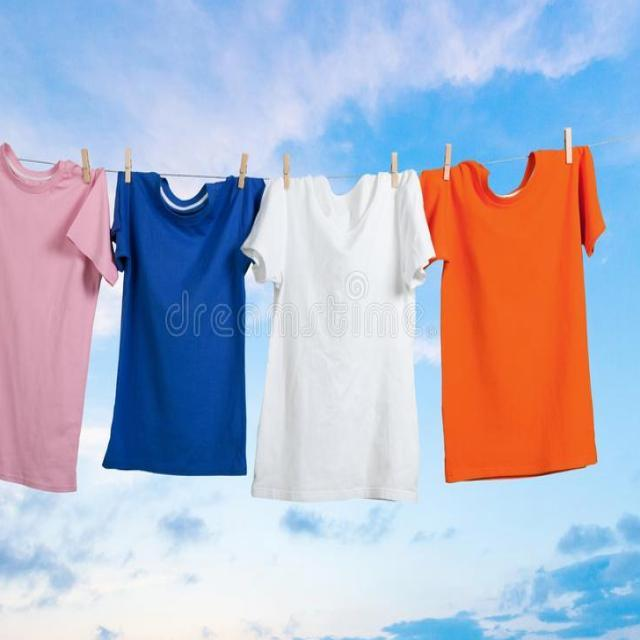clothes: (427, 132, 596, 490), (264, 156, 424, 502), (114, 157, 263, 494), (0, 140, 107, 506)
